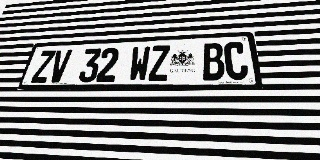2: (96, 47, 120, 82)
3: (78, 48, 102, 82)
B: (202, 43, 225, 80)
C: (223, 42, 249, 80)
V: (47, 49, 73, 83)
W: (128, 46, 151, 82)
Z: (30, 50, 56, 83), (148, 45, 170, 81)
